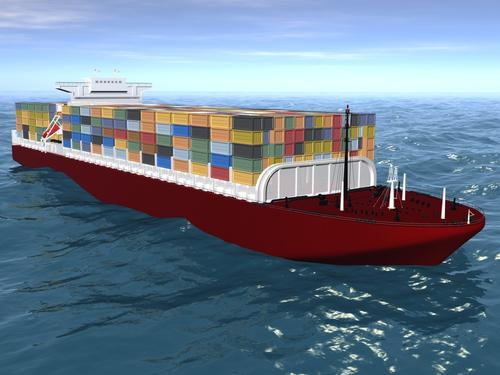Cargoship: (7, 72, 488, 273)
